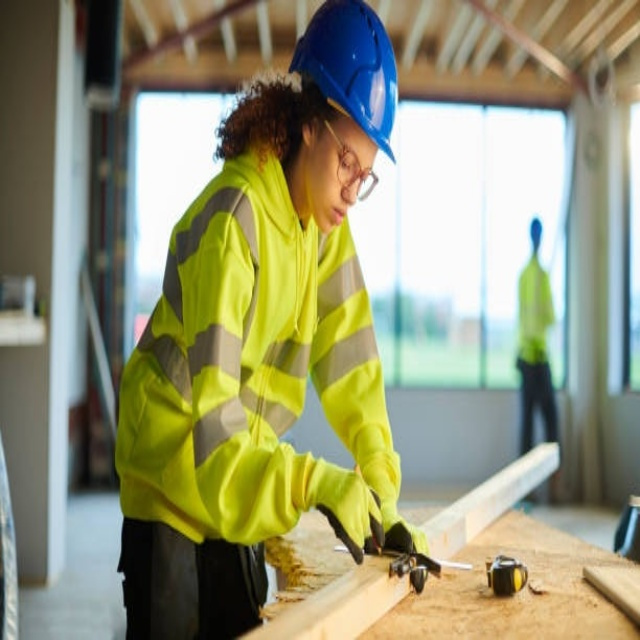Gafas: (320, 111, 379, 201)
Guantes: (305, 448, 383, 557), (366, 463, 428, 559)
Sin_mascara: (319, 183, 350, 237)
